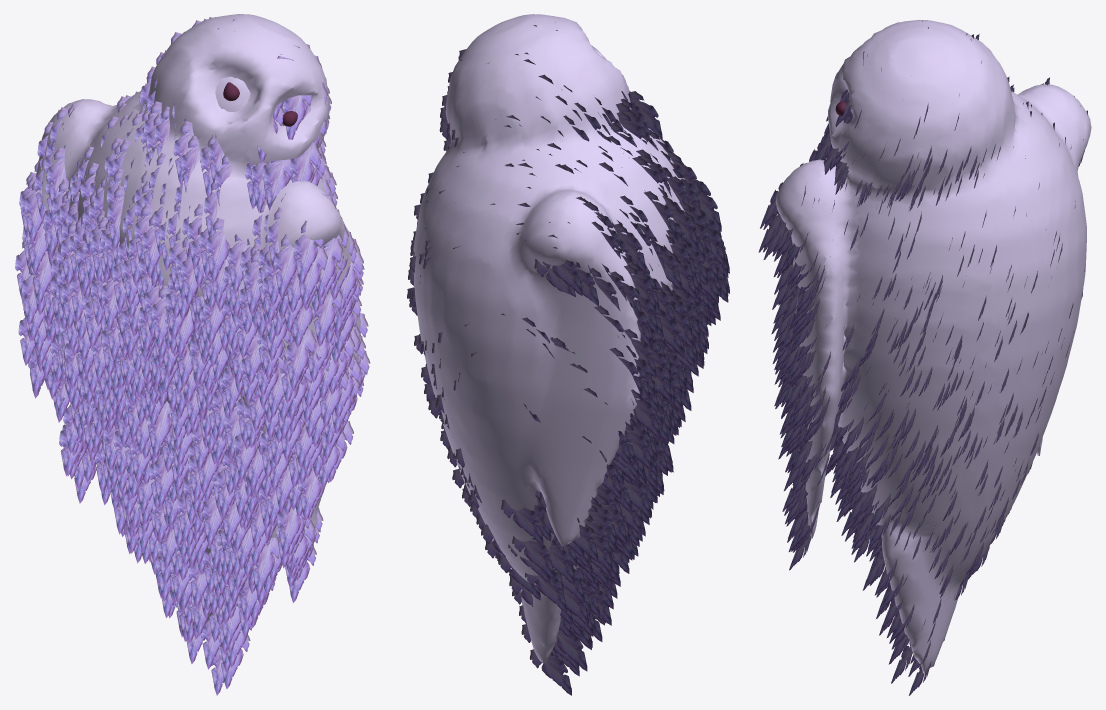
File: xm-owl.glb
The picture shows the model from 3 angles, left to right: view 1: azimuth 30°, elevation 25°; view 2: azimuth 150°, elevation 25°; view 3: azimuth 270°, elevation 25°; orthographic projection. The views are drawn at different scales.
Visible parts, largest first — view 1: xm-owl-0, xm-owl-4, xm-owl-1; view 2: xm-owl-1, xm-owl-4, xm-owl-0; view 3: xm-owl-4, xm-owl-1, xm-owl-0.
Part boxes in pixels (box(x1,y1,x2,y2)): xm-owl-0: box(15, 17, 370, 695); xm-owl-4: box(30, 14, 360, 553); xm-owl-1: box(42, 76, 359, 621); xm-owl-1: box(413, 132, 684, 663); xm-owl-4: box(414, 14, 684, 662); xm-owl-0: box(407, 22, 729, 695); xm-owl-4: box(776, 19, 1091, 673); xm-owl-1: box(775, 85, 1090, 672); xm-owl-0: box(758, 20, 1087, 695).
Size of the model in its own units: 0.4389 by 1 by 0.4404.
3 materials, 1 textured.
